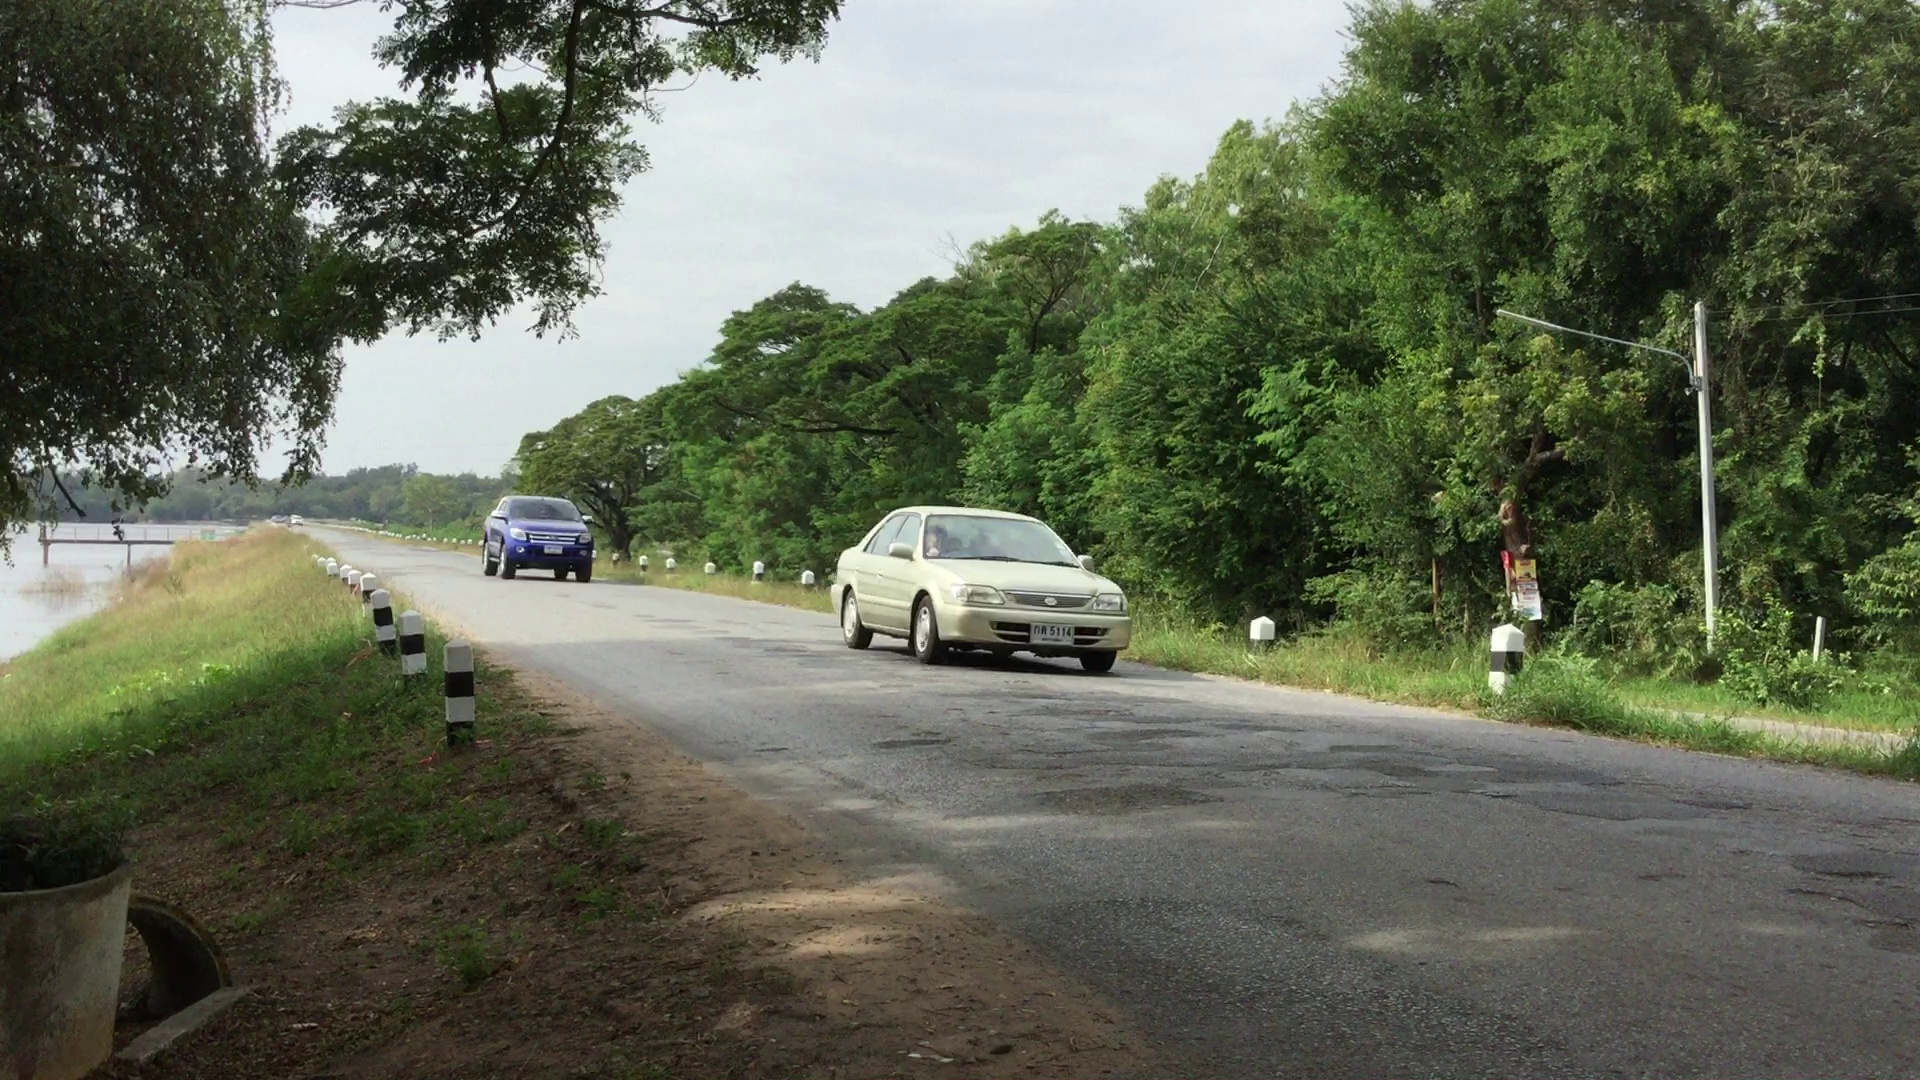car: (832, 496, 1135, 667), (479, 497, 595, 585)
